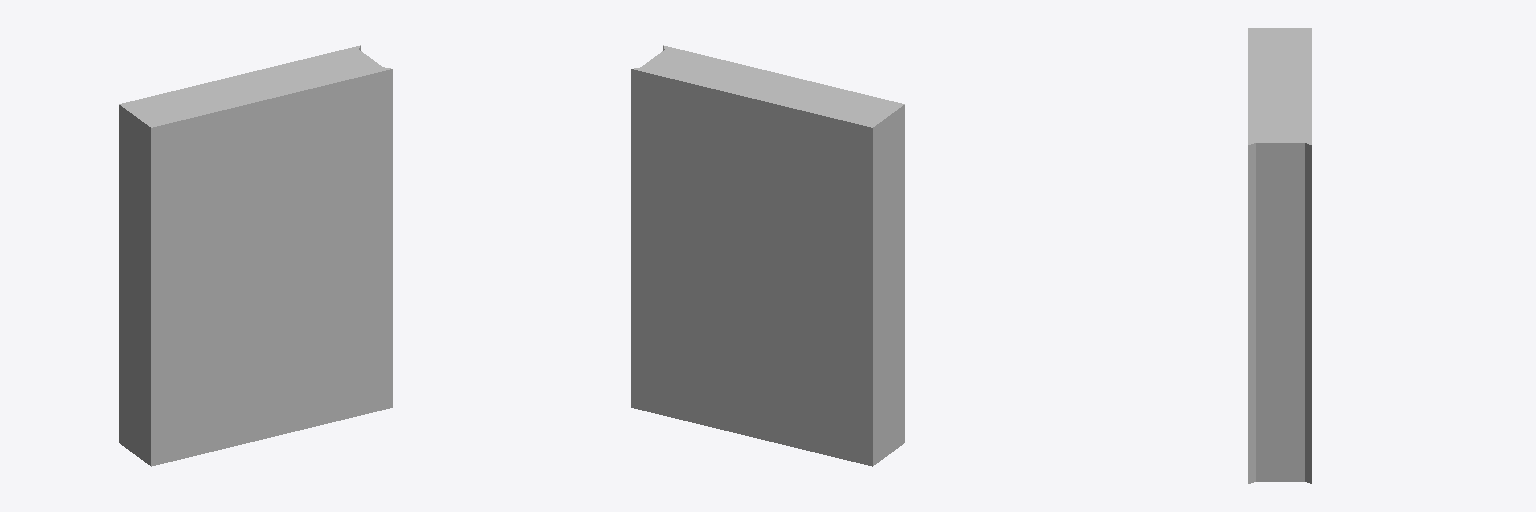
File: Book.obj
The picture shows the model from 3 angles: view 1: azimuth 30°, elevation 25°; view 2: azimuth 150°, elevation 25°; view 3: azimuth 270°, elevation 25°; orthographic projection.
Parts seen in each view (by area): view 1: pCube1; view 2: pCube1; view 3: pCube1.
Part boxes in pixels (left/top/right/bottom): pCube1: left=119, top=45, right=392, bottom=466; pCube1: left=631, top=45, right=904, bottom=466; pCube1: left=1248, top=28, right=1311, bottom=483.
Bounding box in the file's own units: 15.39 × 20.6 × 3.55.